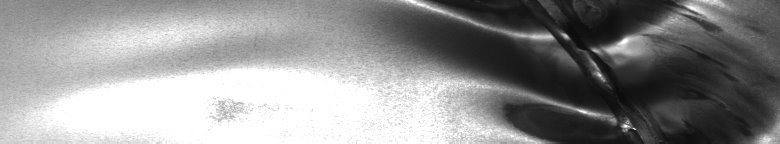ke: (406, 4, 775, 136)
